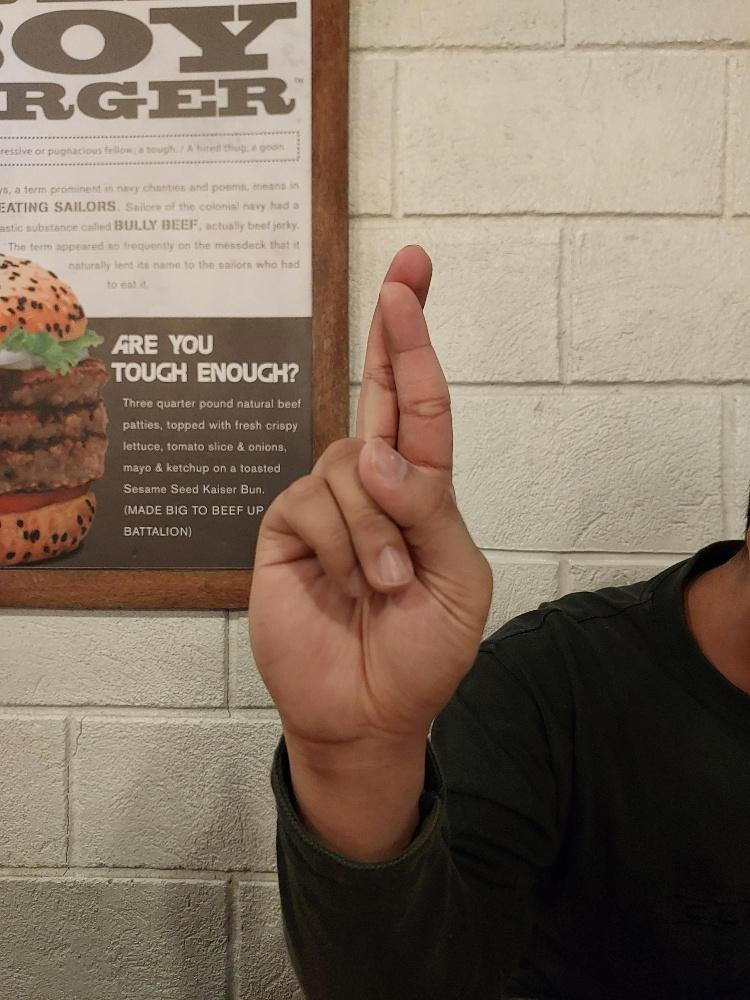r: (245, 241, 494, 745)
